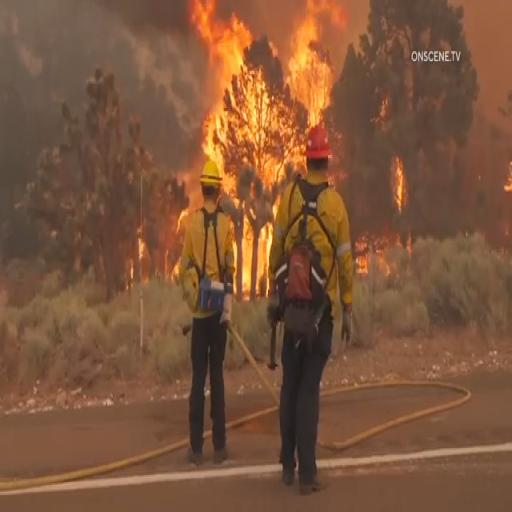fire: (202, 1, 312, 163)
smoke: (3, 0, 188, 157)
